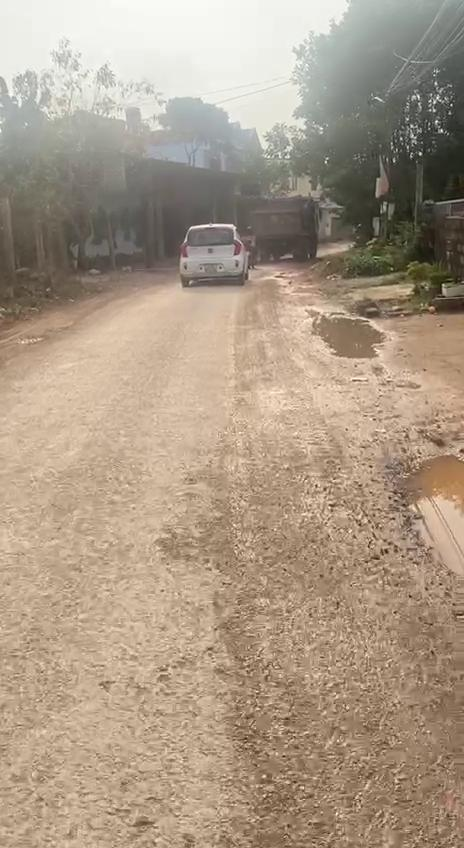pothole: (391, 442, 464, 590), (309, 308, 389, 362)
